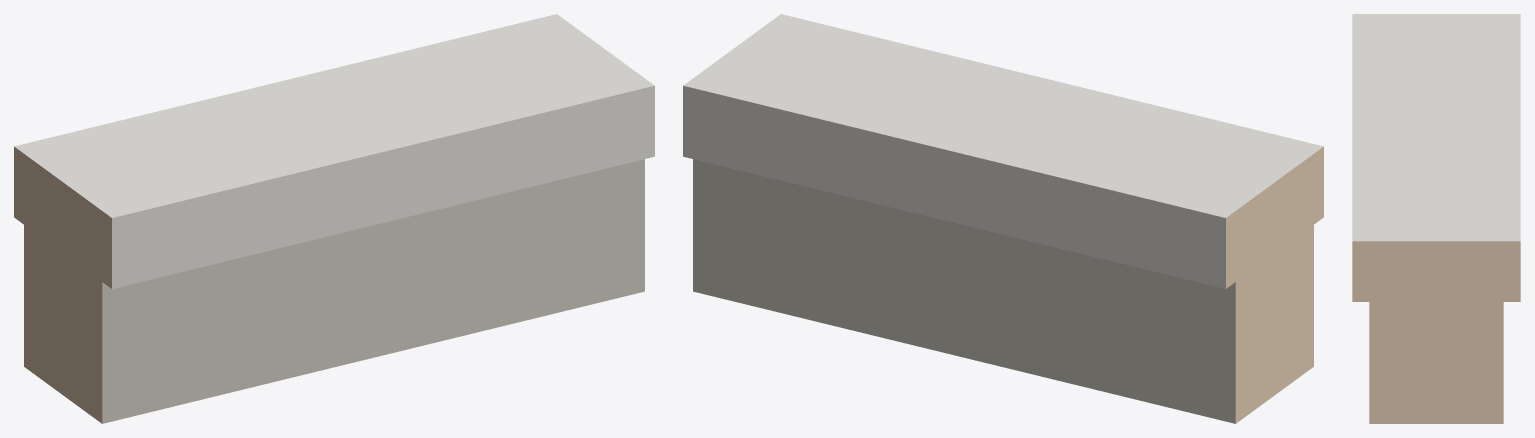
File: Tiered_Retaining_Wall_Straight_1x1_Top.glb
3 views of the same model, side by side, from view 1: azimuth 30°, elevation 25°; view 2: azimuth 150°, elevation 25°; view 3: azimuth 270°, elevation 25° (orthographic). The views are drawn at different scales.
Parts seen in each view (by area): view 1: Tiered_Retaining_Wall_Straight_1x1_Top; view 2: Tiered_Retaining_Wall_Straight_1x1_Top; view 3: Tiered_Retaining_Wall_Straight_1x1_Top.
Part boxes in pixels (box(x1,y1,x2,y2)): Tiered_Retaining_Wall_Straight_1x1_Top: box(14, 14, 654, 423); Tiered_Retaining_Wall_Straight_1x1_Top: box(683, 14, 1323, 423); Tiered_Retaining_Wall_Straight_1x1_Top: box(1352, 14, 1520, 423).
Bounding box in the file's own units: 100 × 37.5 × 31.25.
